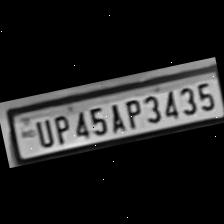3: (138, 91, 162, 125), (174, 82, 198, 116)
4: (66, 106, 90, 140), (157, 86, 180, 119)
5: (192, 77, 216, 112), (83, 103, 108, 136)
A: (103, 99, 127, 132)
P: (48, 111, 72, 145), (120, 96, 143, 128)
U: (30, 114, 54, 148)
